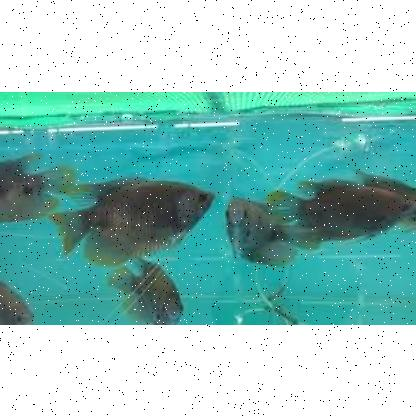gurame: (58, 174, 216, 262), (281, 178, 409, 247), (108, 262, 198, 324)
